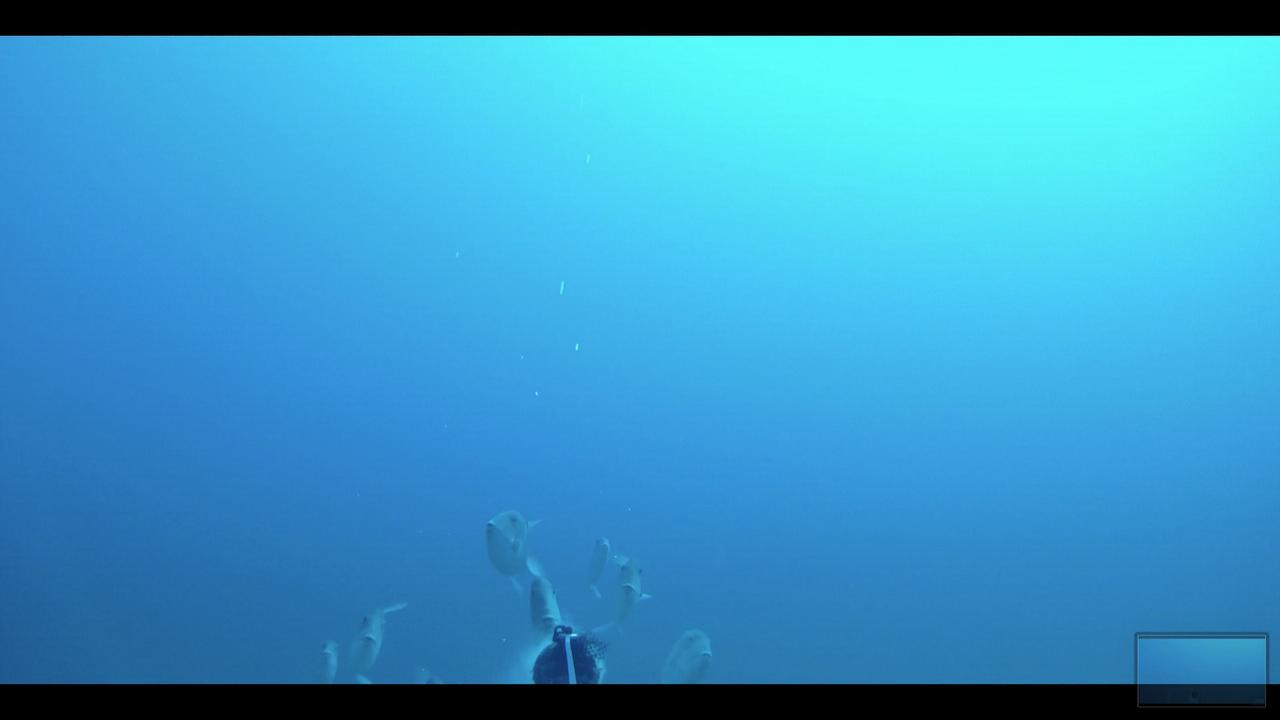balistes: (473, 506, 552, 596), (346, 586, 408, 682), (594, 558, 655, 640), (660, 622, 716, 681), (579, 532, 616, 598)
